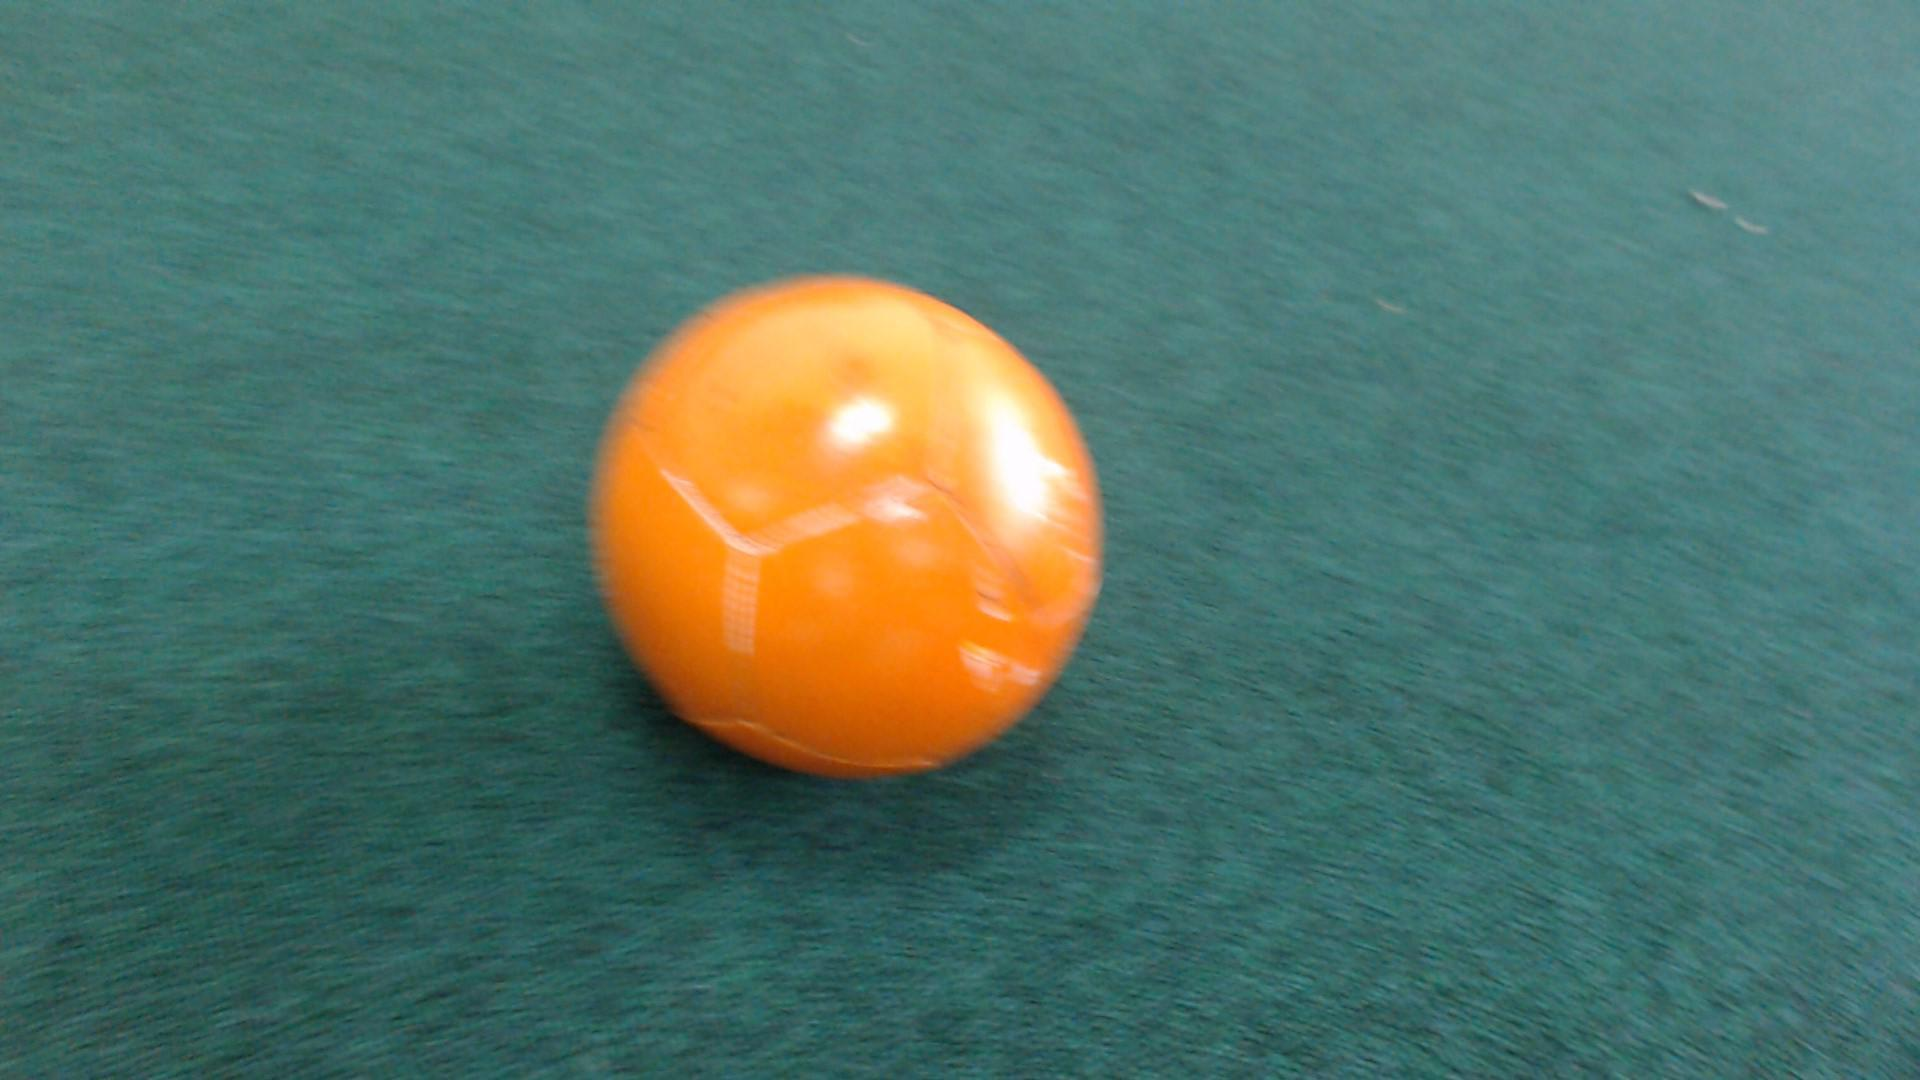bola: (560, 262, 1124, 804)
